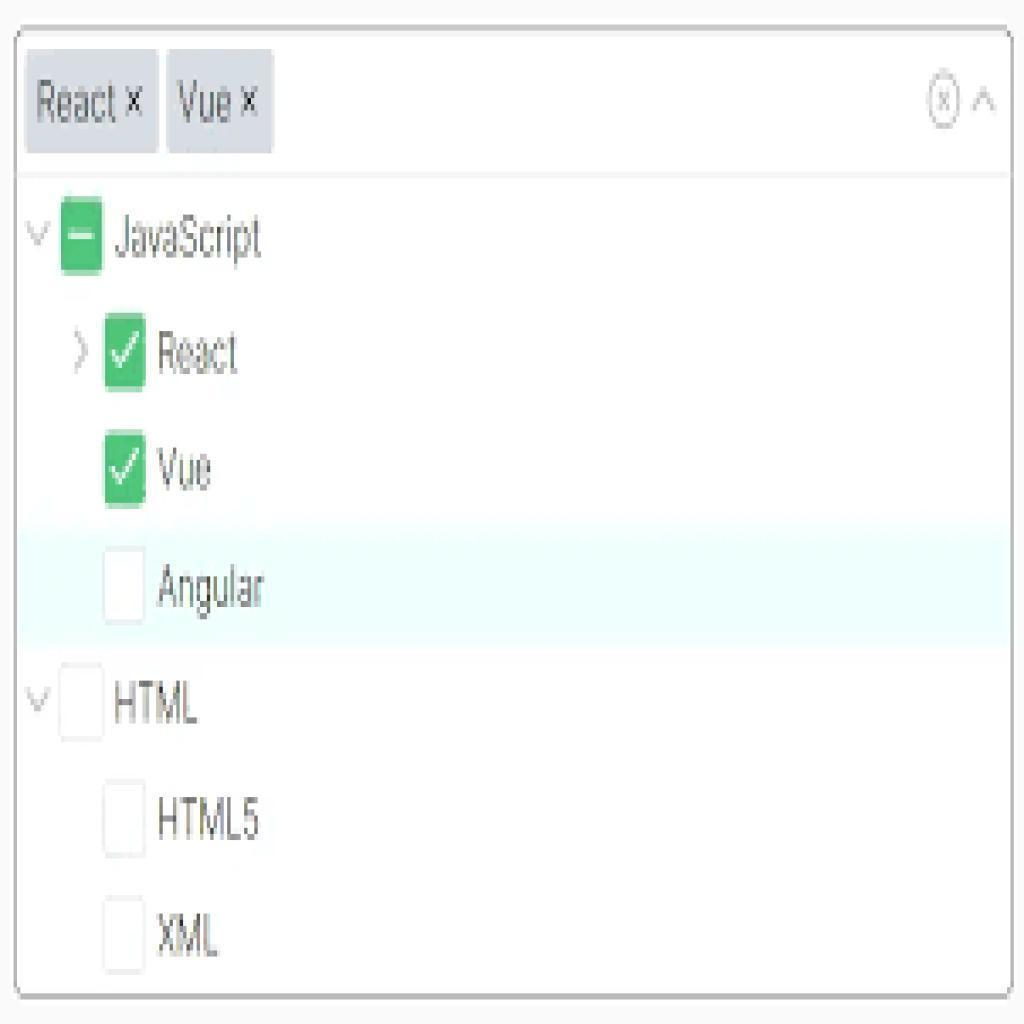button: (26, 50, 161, 154), (167, 47, 275, 152)
checkbox: (52, 659, 104, 734), (102, 309, 147, 393), (102, 894, 153, 967), (103, 779, 146, 858), (105, 429, 146, 508), (60, 198, 102, 275), (102, 545, 143, 617)
dropdown: (17, 31, 1013, 173)
